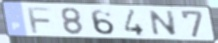4: (122, 8, 146, 37)
6: (89, 8, 116, 36)
7: (179, 9, 205, 38)
8: (59, 6, 86, 35)
F: (25, 6, 54, 35)
N: (148, 9, 179, 37)
